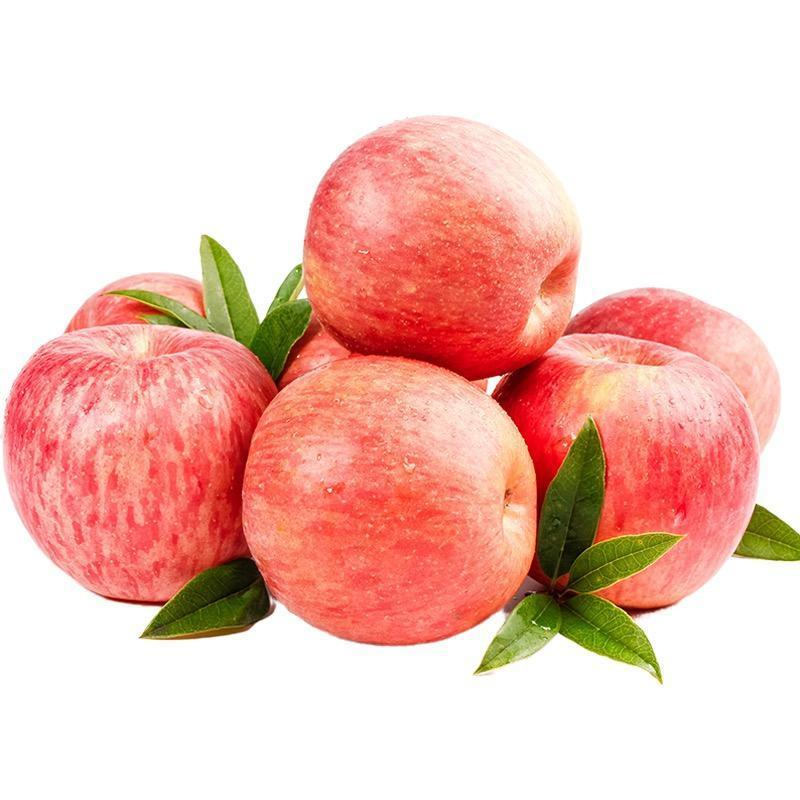apple: (244, 361, 535, 647), (1, 320, 278, 608), (303, 114, 583, 381), (497, 328, 757, 610), (548, 280, 780, 486)
